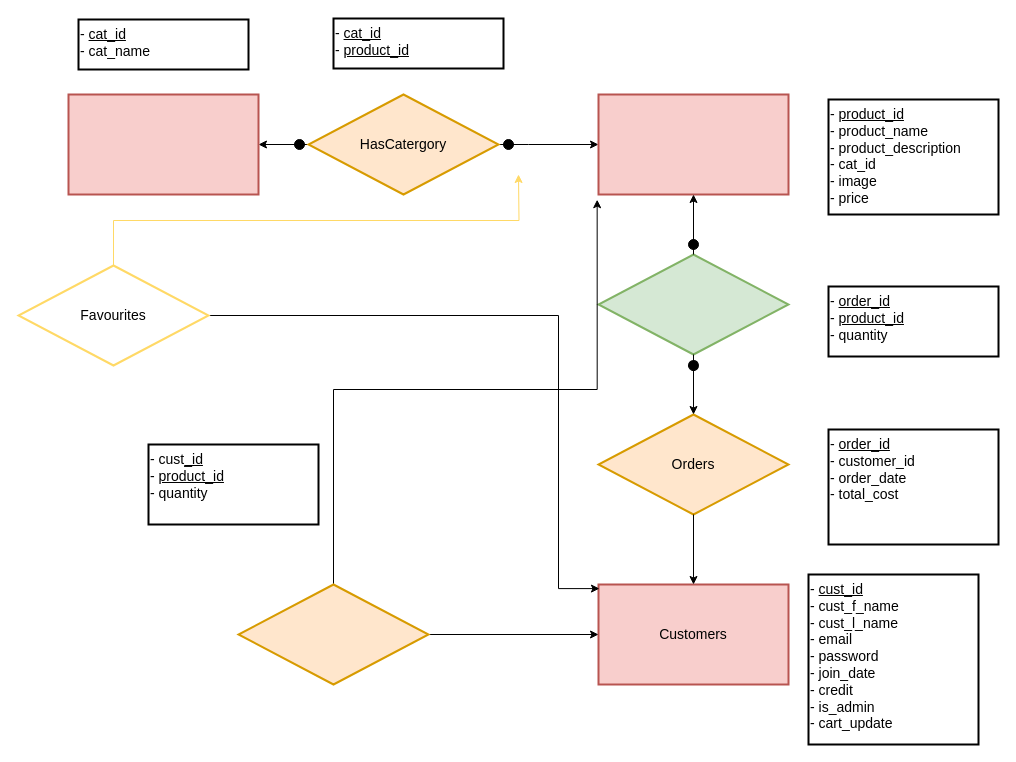
Image size: 1016x762. Some labels were removed from this diagram. Each missing label, with the centre of its shape:
"Carts" goes at (x=333, y=634).
"Catergorys" goes at (x=163, y=144).
"Products" goes at (x=693, y=144).
"PurchasedProducts" goes at (x=693, y=304).
